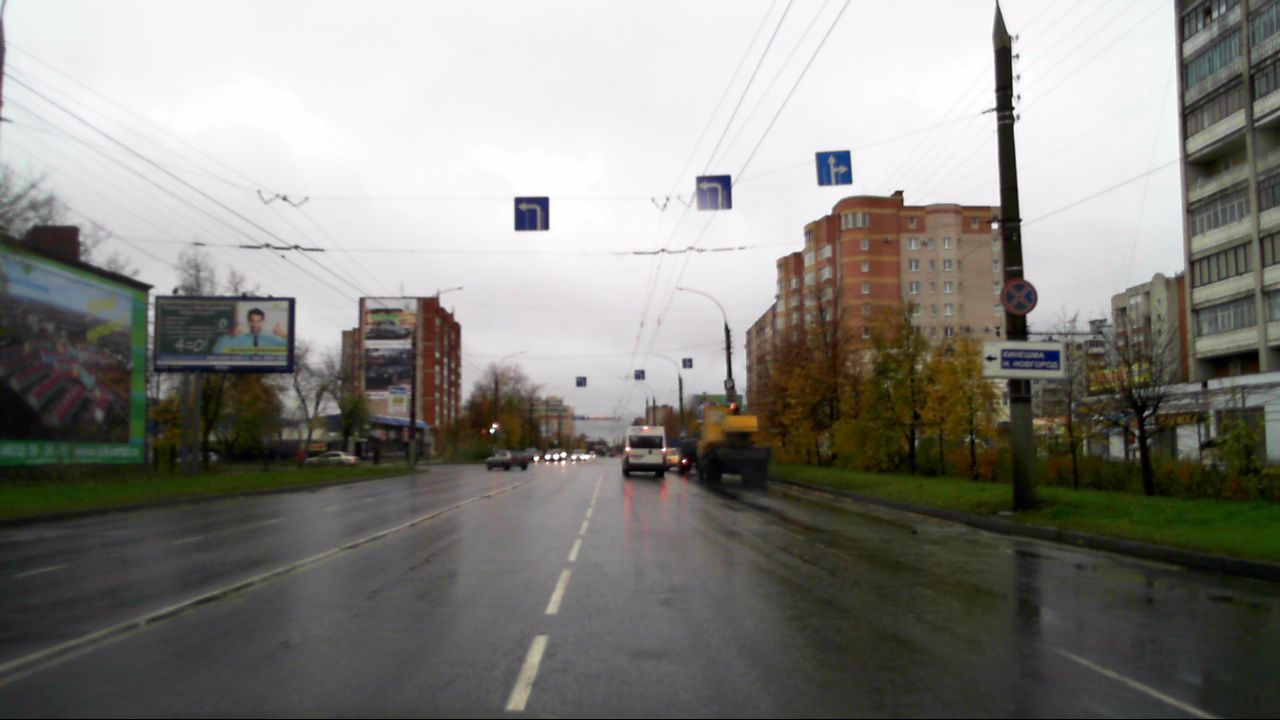No Parking: (1000, 281, 1038, 317)
